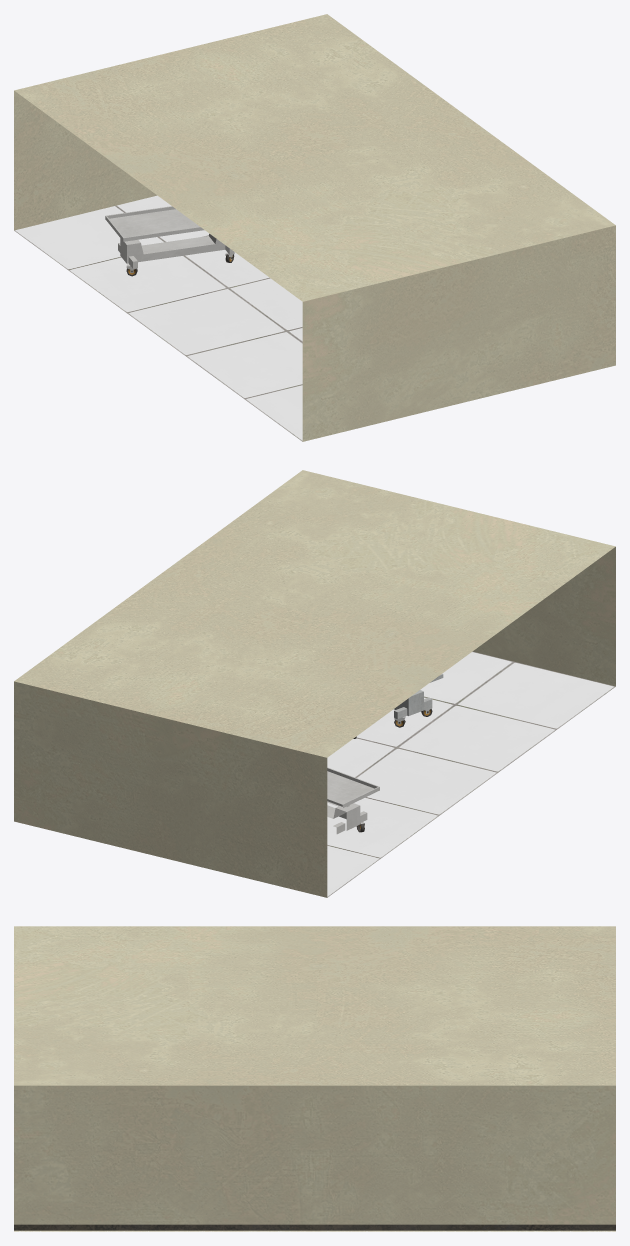
Rendered from Tanatorio.fbx.
The picture shows the model from 3 angles, top to bottom: view 1: azimuth 30°, elevation 25°; view 2: azimuth 150°, elevation 25°; view 3: azimuth 270°, elevation 25°; orthographic projection. The views are drawn at different scales.
Visible parts, largest first — view 1: Tanatorio; view 2: Tanatorio; view 3: Tanatorio.
Part boxes in pixels (x1=…): Tanatorio: x1=14, y1=14, x2=615, y2=441; Tanatorio: x1=14, y1=470, x2=615, y2=897; Tanatorio: x1=14, y1=926, x2=615, y2=1231.
Bounding box in the file's own units: 552 × 236 × 881.
